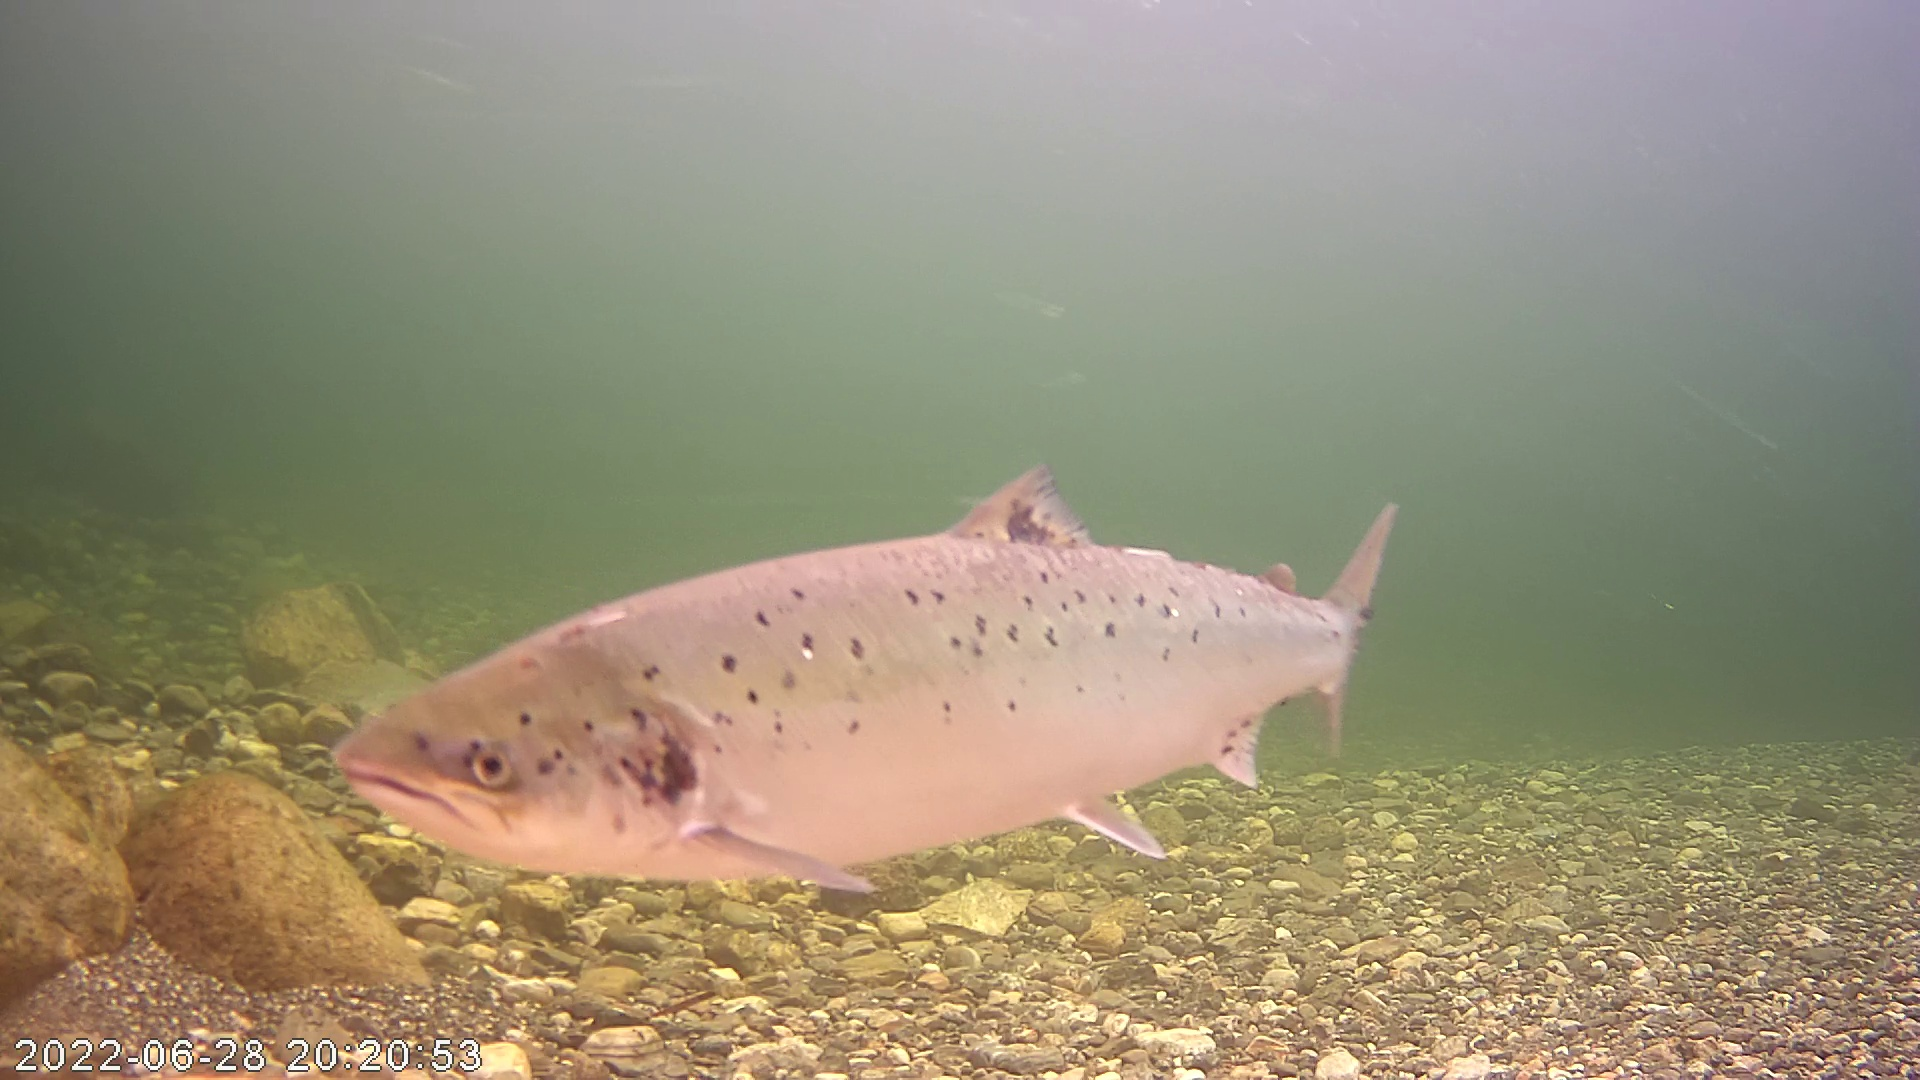salmon: (340, 404, 1400, 907)
